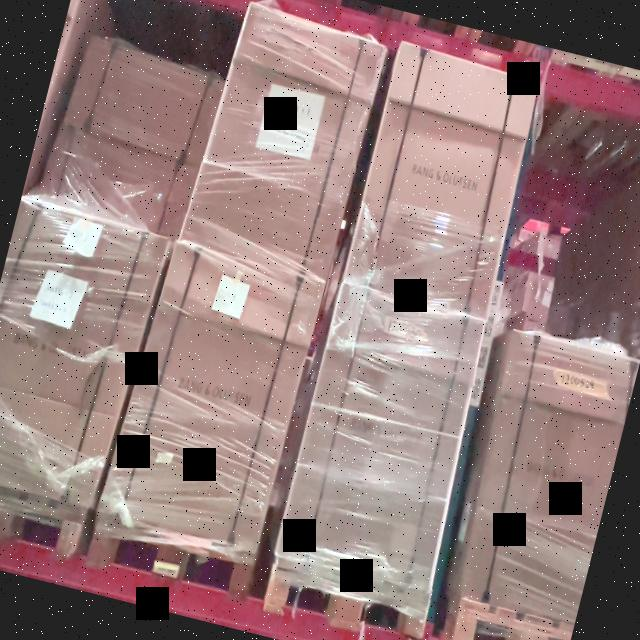box: (100, 240, 326, 553), (274, 282, 486, 596), (177, 2, 385, 281), (342, 44, 541, 321)
